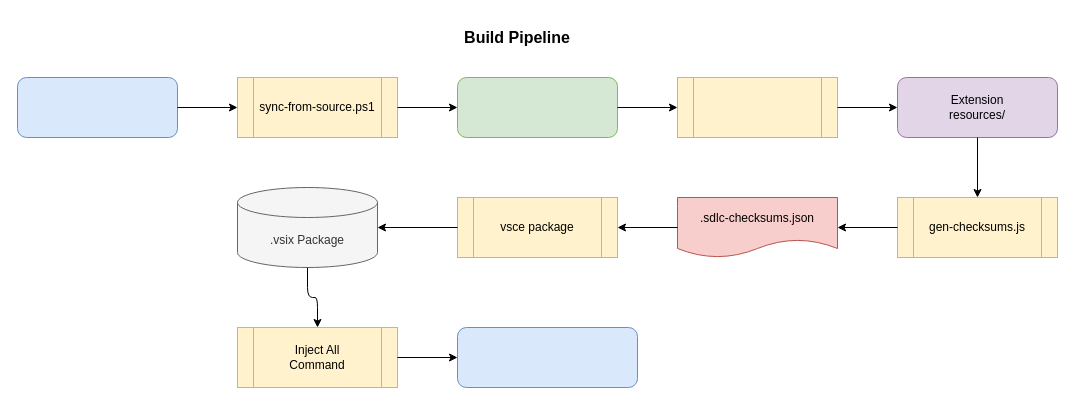
This 1075x405 diagram has some shape labels left out. Each missing label, with the box of its shape:
copy-resources.js: (676, 76, 838, 138)
FEC_CR_Builder Workspace: (456, 76, 618, 138)
Source Project (MCPOrchestration): (16, 76, 178, 138)
Target Workspace (.kiro/ + documents/): (456, 326, 638, 388)
